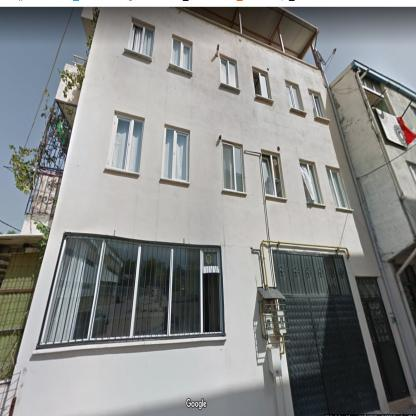door: (285, 294, 381, 415), (361, 296, 410, 403)
window: (40, 233, 222, 345), (274, 252, 350, 292), (107, 113, 144, 173), (161, 127, 189, 181), (222, 143, 244, 192), (127, 21, 154, 56), (262, 152, 283, 197), (300, 162, 322, 204), (326, 169, 349, 208), (171, 37, 191, 70), (220, 58, 236, 88), (252, 70, 269, 98), (356, 276, 380, 294), (286, 83, 302, 109), (310, 93, 324, 117)
